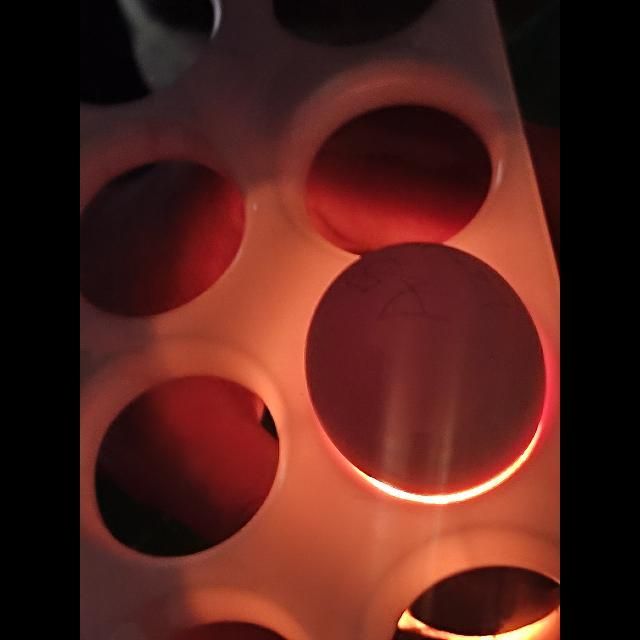B - Fair: (301, 236, 551, 484)
